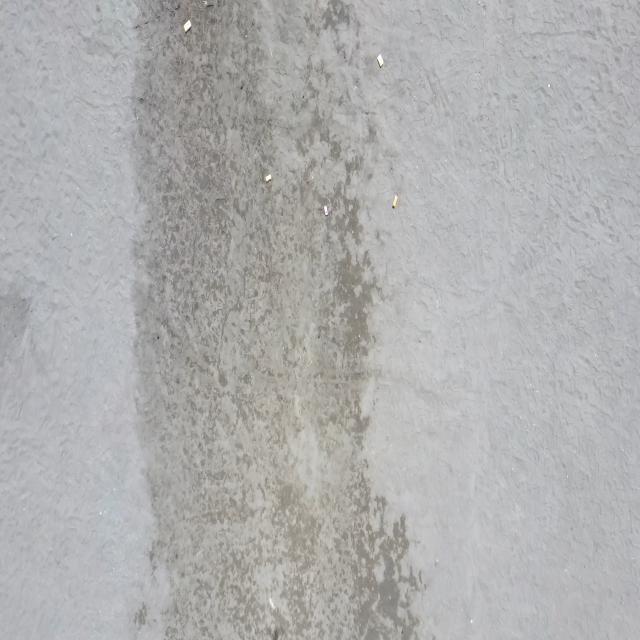retort-pouch: (376, 51, 385, 70), (390, 193, 400, 210), (183, 17, 192, 35), (264, 172, 272, 184), (323, 204, 329, 218)
